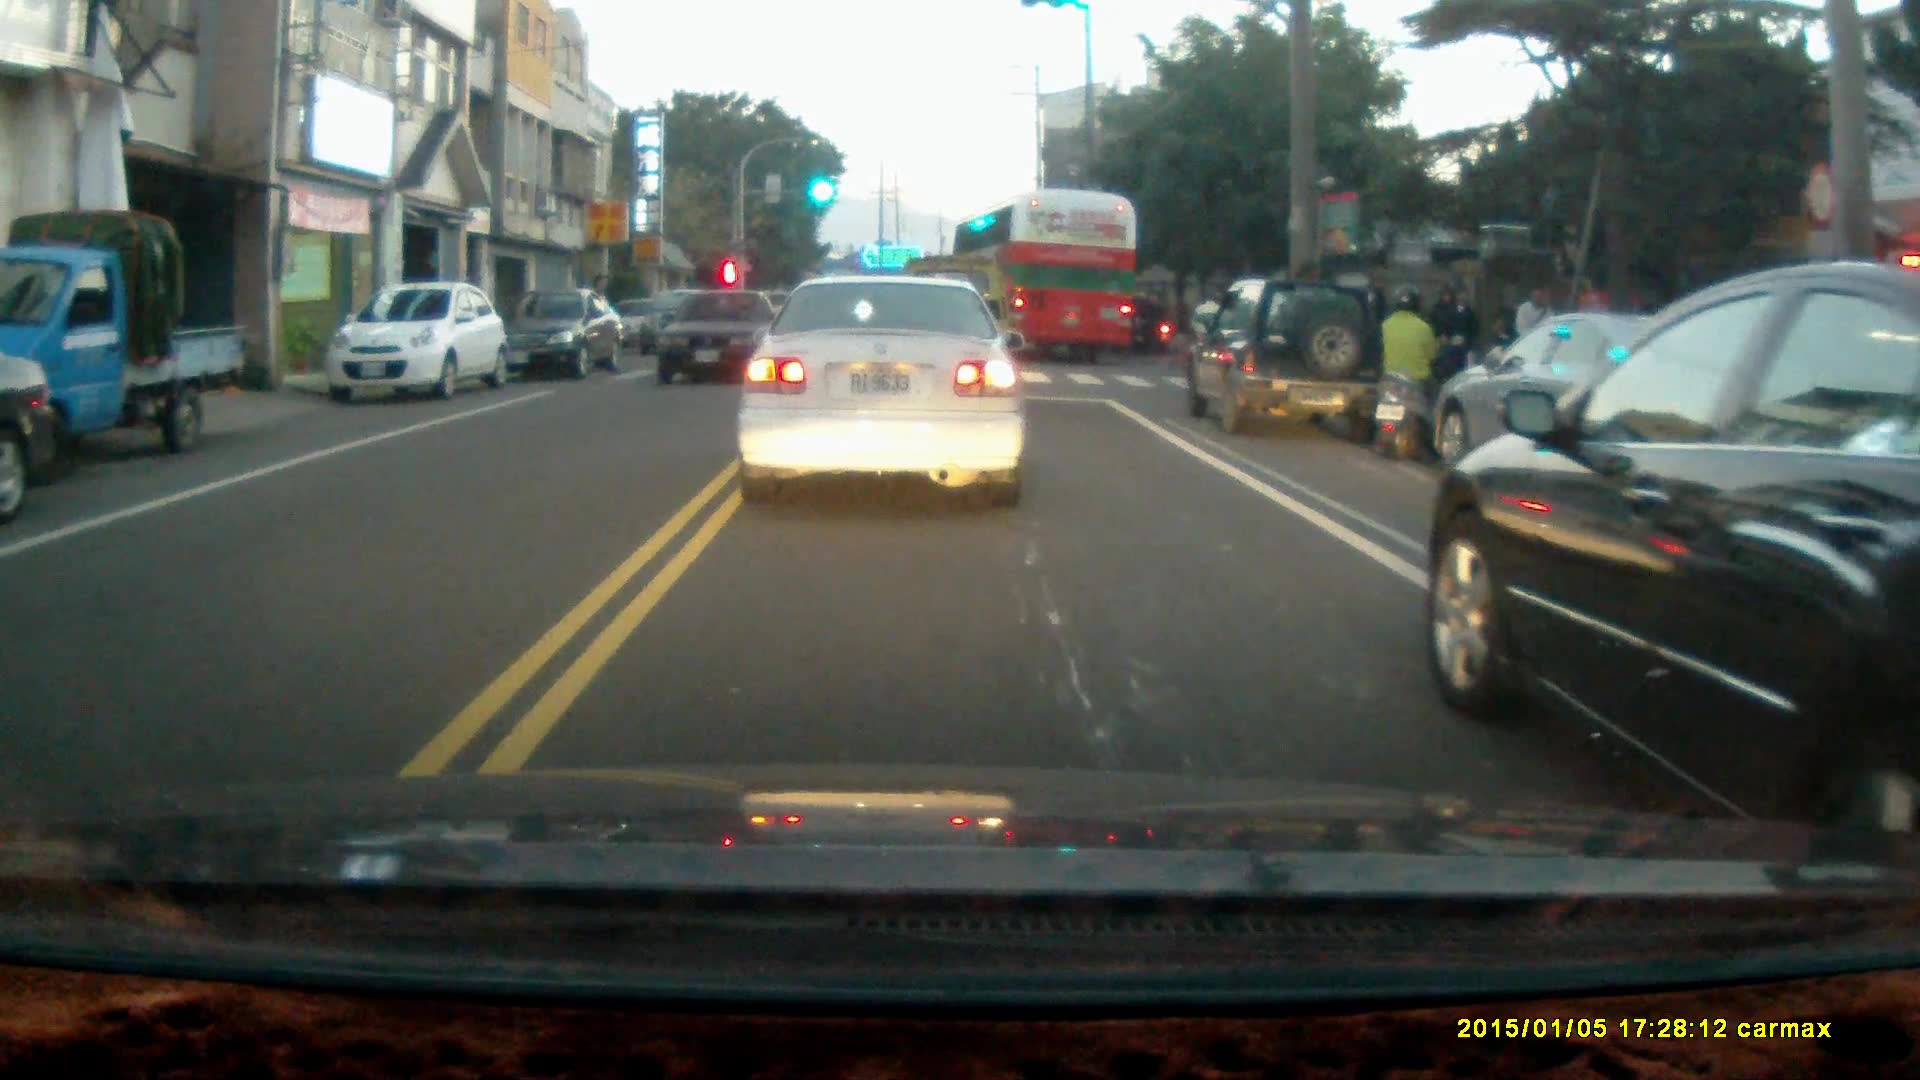pedestrian: (1509, 273, 1560, 388), (1434, 282, 1480, 405)
rider: (1371, 282, 1448, 460), (1115, 293, 1176, 352)
vehicle: (1431, 258, 1920, 830), (731, 270, 1028, 507), (1, 213, 253, 459), (1428, 310, 1763, 480), (1188, 275, 1397, 440), (958, 188, 1139, 362), (330, 284, 504, 402), (657, 291, 776, 390), (509, 285, 628, 378)
